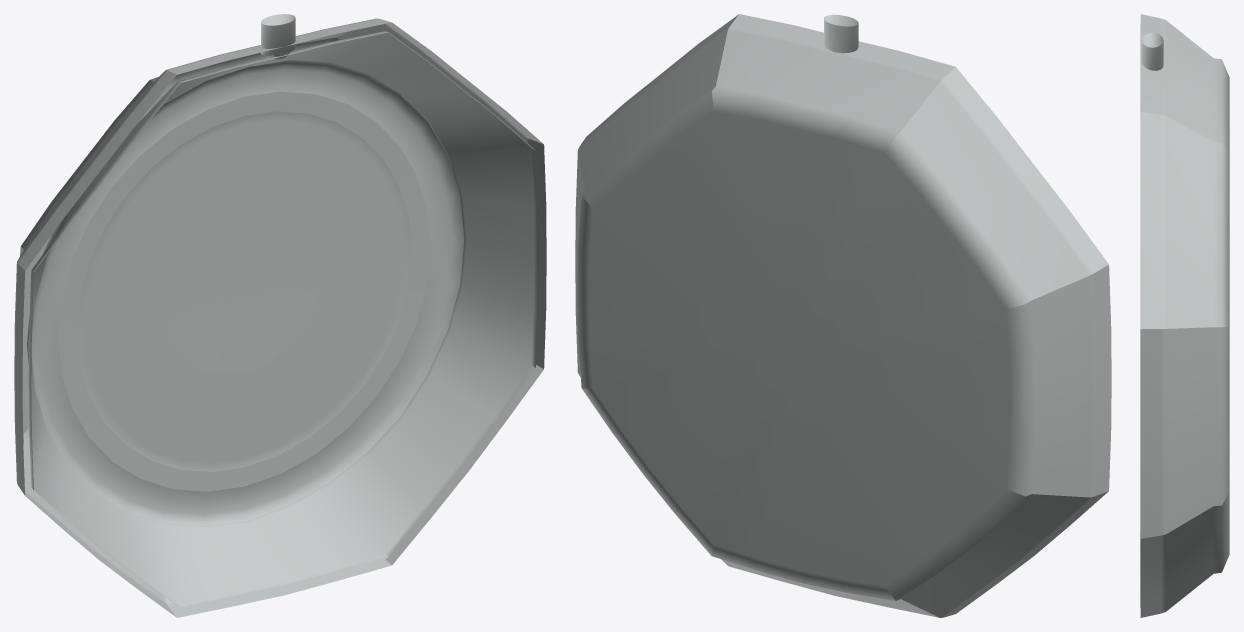
The model's file is MeshPan_3_0_GeomSubset_0.obj.
3 renders of one model, left to right at view 1: azimuth 30°, elevation 25°; view 2: azimuth 150°, elevation 25°; view 3: azimuth 270°, elevation 25°, orthographic. The views are drawn at different scales.
Parts seen in each view (by area): view 1: MeshPan_3_0_GeomSubset_0; view 2: MeshPan_3_0_GeomSubset_0; view 3: MeshPan_3_0_GeomSubset_0.
Part boxes in pixels (<box>): MeshPan_3_0_GeomSubset_0: <box>14,14,546,617</box>; MeshPan_3_0_GeomSubset_0: <box>575,14,1111,617</box>; MeshPan_3_0_GeomSubset_0: <box>1140,14,1229,617</box>.
Size of the model in its own units: 0.253 by 0.2633 by 0.0401.
